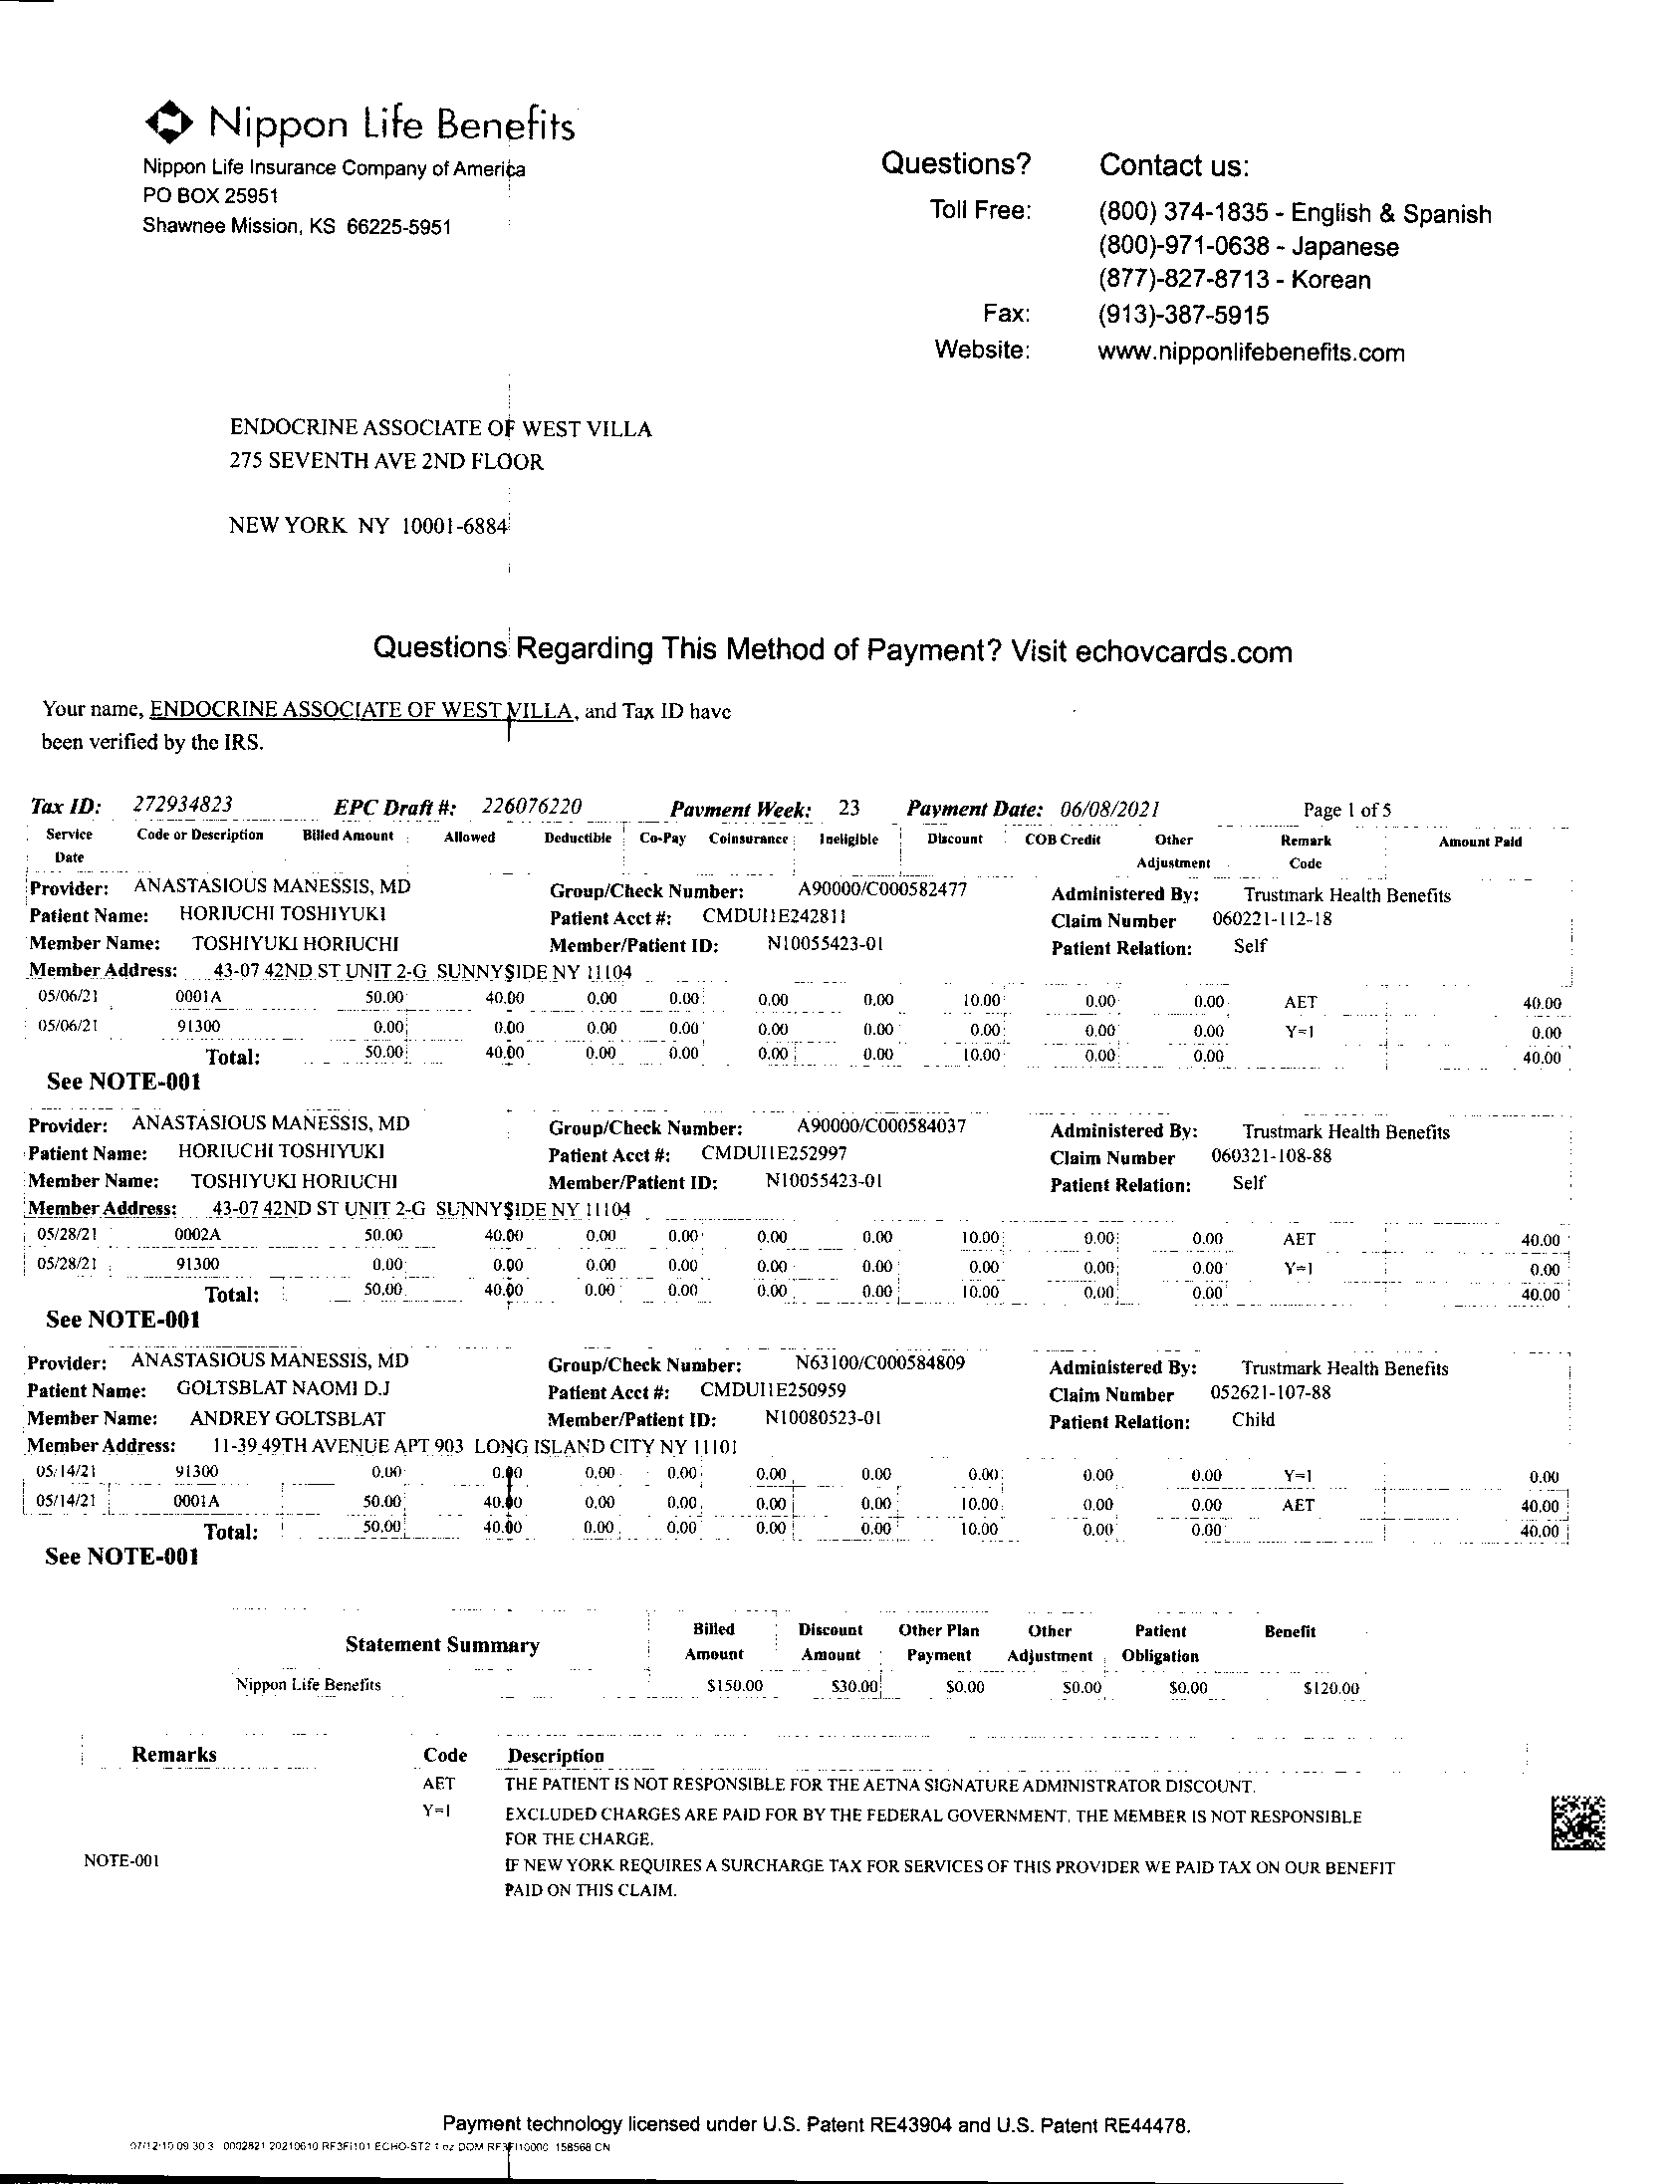data: (26, 1103, 1477, 1226), (26, 875, 1489, 997), (18, 1344, 1489, 1455)
table: (25, 773, 1601, 1544)
